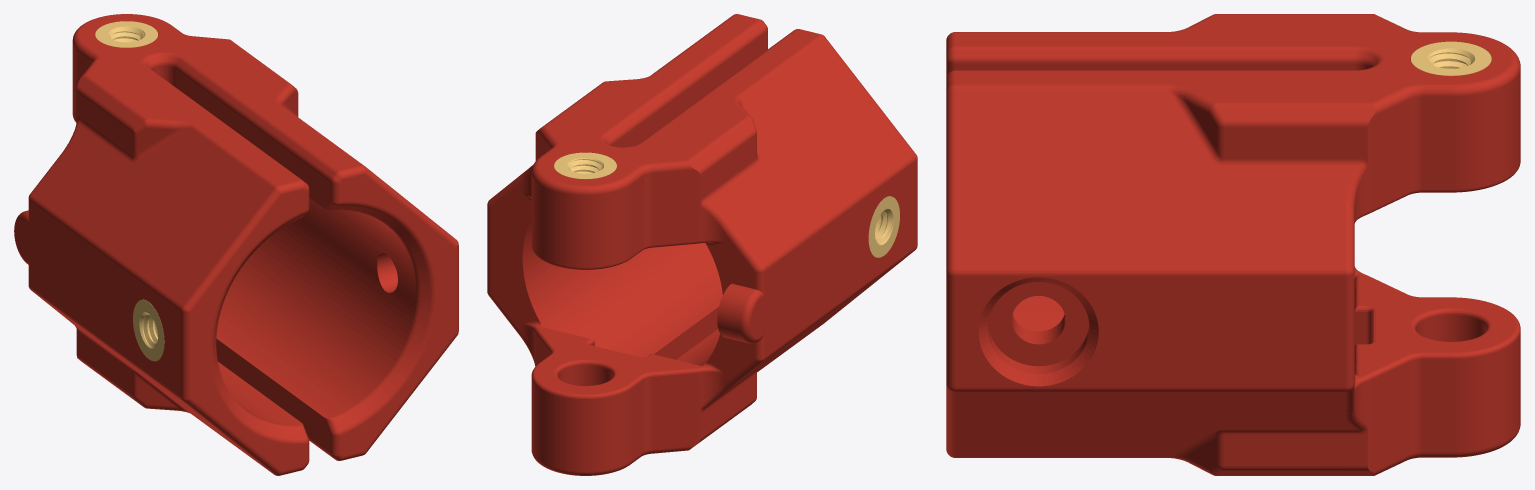
File: arm_pivot.dae
3 renders of one model, left to right at view 1: azimuth 30°, elevation 25°; view 2: azimuth 150°, elevation 25°; view 3: azimuth 270°, elevation 25°, orthographic. The views are drawn at different scales.
Parts seen in each view (by area): view 1: node2, node0, node1; view 2: node2, node0, node1; view 3: node2, node1.
Boxes of the visible parts, left/top/right/bottom form: node2: left=14, top=14, right=458, bottom=475; node0: left=133, top=299, right=164, bottom=361; node1: left=95, top=21, right=157, bottom=47; node2: left=487, top=14, right=917, bottom=475; node0: left=868, top=196, right=899, bottom=257; node1: left=554, top=152, right=616, bottom=179; node2: left=946, top=14, right=1520, bottom=475; node1: left=1411, top=41, right=1491, bottom=75.
Size of the model in its own units: 0.0222 by 0.0311 by 0.0222.
